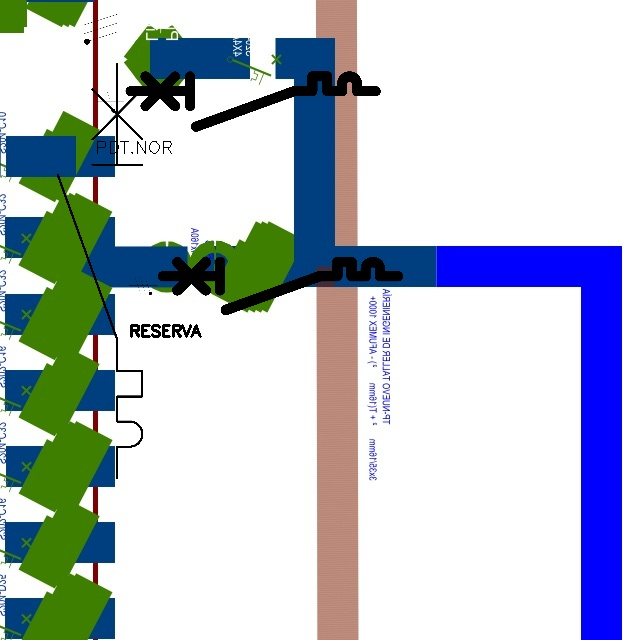interruptor_termomagnetico: (47, 53, 153, 488), (124, 70, 382, 133), (156, 256, 403, 316)
